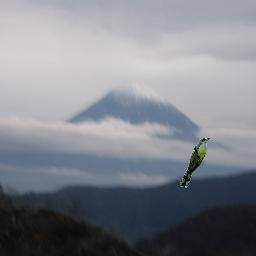Cuckoo: (180, 138, 210, 188)
